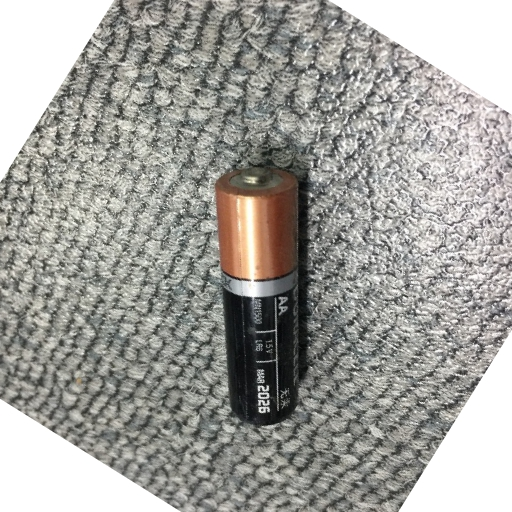Battery_0: (205, 164, 322, 428)
